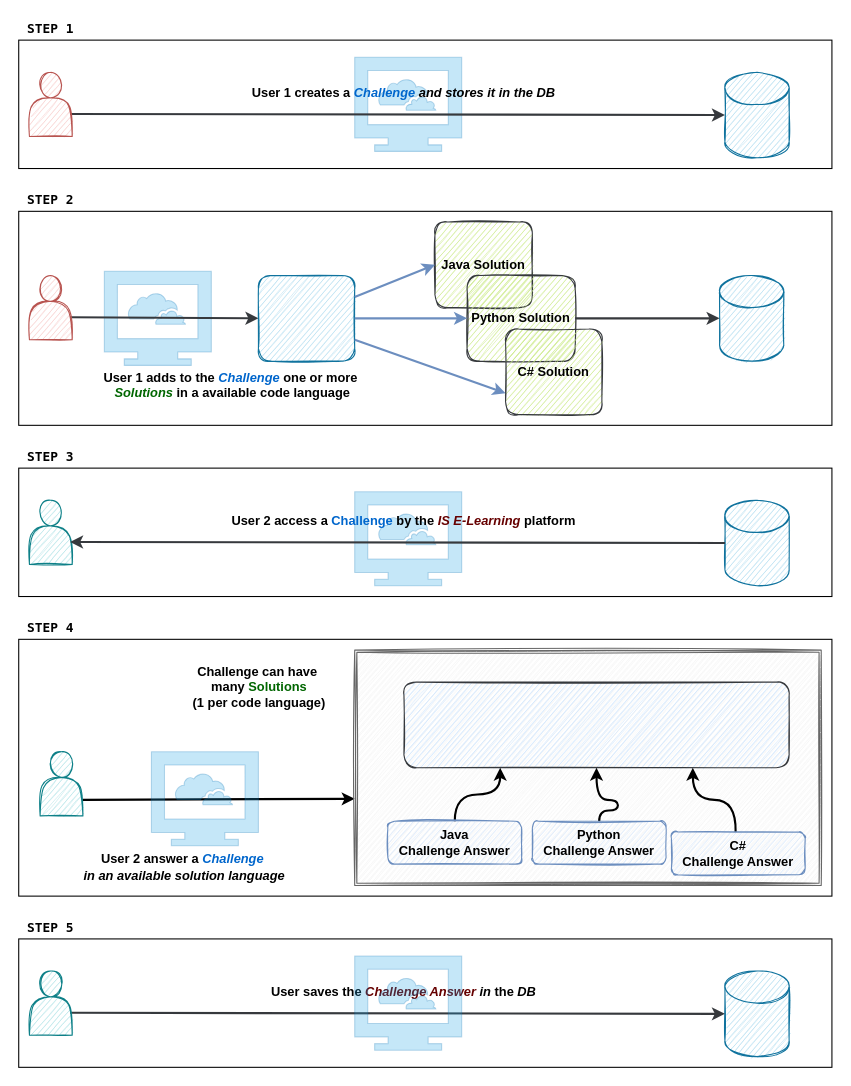
Some shapes in this 851 by 1086 pixel diagram are drawn without their labels. Each missing label, with the box of its shape:
Challenge: (257, 274, 355, 361)
Challenge in Java, Python and C#: (403, 681, 789, 768)
